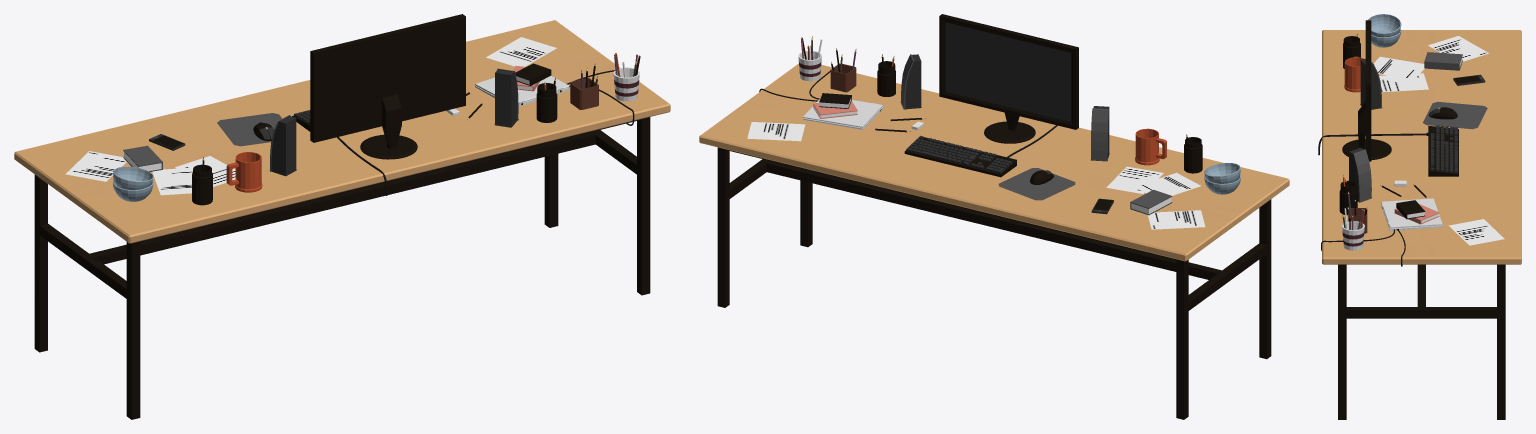
Rendered from desk.glb.
The picture shows the model from 3 angles, left to right: view 1: azimuth 30°, elevation 25°; view 2: azimuth 150°, elevation 25°; view 3: azimuth 270°, elevation 25°; orthographic projection. The views are drawn at different scales.
Visible parts, largest first — view 1: Desk, PC_Monitor, Boxes, Paper, PC_Speaker, Books, Mousepad, Dish, Notebook; view 2: Desk, PC_Monitor, Paper, Boxes, PC_Keyboard, PC_Speaker, Books, Mousepad, Notebook, Dish, Pen; view 3: Desk, Paper, Boxes, PC_Monitor, PC_Speaker, PC_Keyboard, Books, Mousepad, Notebook, Dish, Pen, PC_Mouse (+2 smaller).
Part boxes in pixels (x1=…): Desk: x1=14, y1=20, x2=670, y2=419; PC_Monitor: x1=310, y1=14, x2=465, y2=159; Boxes: x1=192, y1=67, x2=639, y2=205; Paper: x1=65, y1=37, x2=556, y2=195; PC_Speaker: x1=269, y1=68, x2=518, y2=176; Books: x1=123, y1=63, x2=551, y2=171; Mousepad: x1=217, y1=113, x2=282, y2=146; Dish: x1=113, y1=166, x2=153, y2=201; Notebook: x1=475, y1=76, x2=569, y2=106; Desk: x1=699, y1=63, x2=1289, y2=419; PC_Monitor: x1=939, y1=14, x2=1078, y2=143; Paper: x1=747, y1=122, x2=1205, y2=229; Boxes: x1=798, y1=50, x2=1202, y2=173; PC_Keyboard: x1=904, y1=135, x2=1016, y2=177; PC_Speaker: x1=900, y1=54, x2=1109, y2=161; Books: x1=813, y1=93, x2=1172, y2=215; Mousepad: x1=998, y1=168, x2=1075, y2=200; Notebook: x1=803, y1=98, x2=883, y2=129; Dish: x1=1204, y1=163, x2=1240, y2=194; Pen: x1=801, y1=36, x2=1187, y2=142; Desk: x1=1322, y1=30, x2=1521, y2=419; Paper: x1=1373, y1=36, x2=1504, y2=245; Boxes: x1=1339, y1=36, x2=1367, y2=250; PC_Monitor: x1=1342, y1=20, x2=1391, y2=161; PC_Speaker: x1=1349, y1=59, x2=1382, y2=202; PC_Keyboard: x1=1426, y1=125, x2=1458, y2=176; Books: x1=1394, y1=52, x2=1462, y2=224; Mousepad: x1=1423, y1=101, x2=1487, y2=129; Notebook: x1=1381, y1=198, x2=1442, y2=231; Dish: x1=1367, y1=14, x2=1401, y2=47; Pen: x1=1342, y1=34, x2=1427, y2=229; PC_Mouse: x1=1429, y1=107, x2=1457, y2=119.
Bounding box in the file's own units: 2.35 × 1.26 × 0.8825.
Materials: 19 (17 with a texture image).
